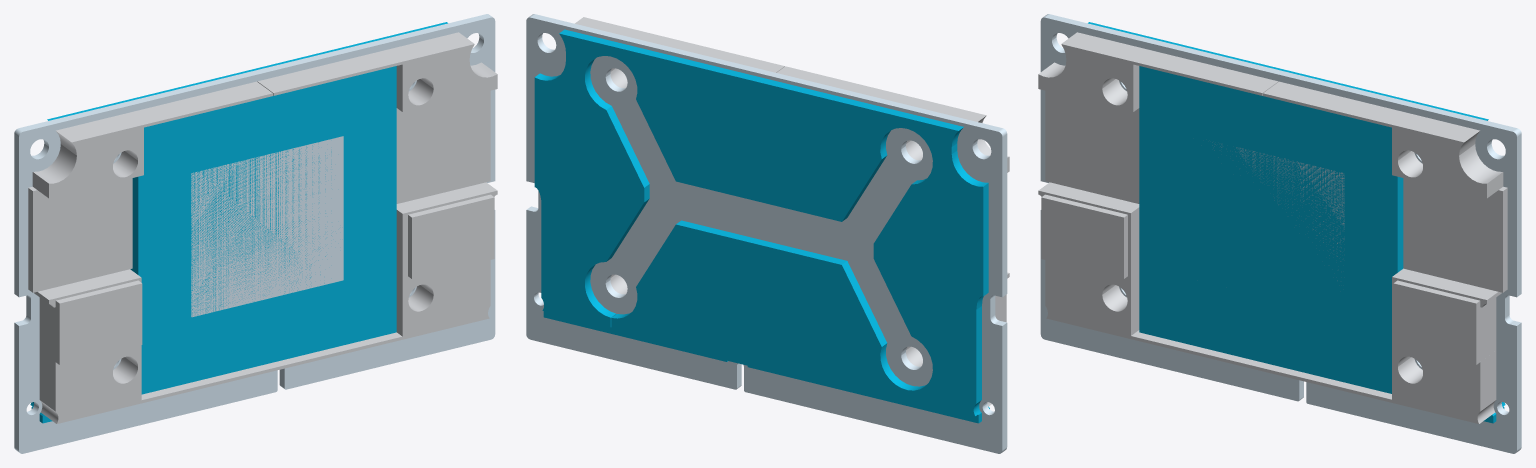
The model's file is jetson-module.glb.
3 renders of one model, left to right at view 1: azimuth 30°, elevation 25°; view 2: azimuth 150°, elevation 25°; view 3: azimuth 330°, elevation 25°, orthographic.
Visible parts, largest first — view 1: jetson-module; view 2: jetson-module; view 3: jetson-module.
Boxes of the visible parts, <box> form: jetson-module: <box>14,14,497,453</box>; jetson-module: <box>526,14,1009,453</box>; jetson-module: <box>1038,14,1521,453</box>.
Bounding box in the file's own units: 69.6 × 45 × 7.68.
